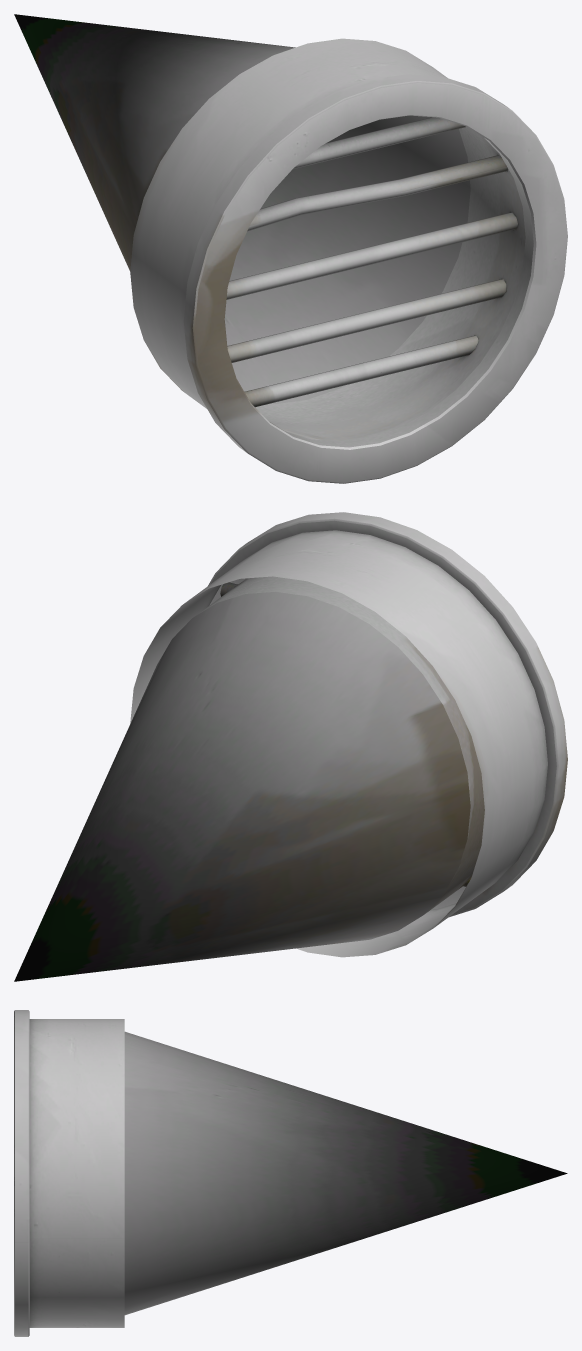
File: props_farm_sewer_grate_end01.glb
The picture shows the model from 3 angles, top to bottom: view 1: azimuth 30°, elevation 25°; view 2: azimuth 150°, elevation 25°; view 3: azimuth 270°, elevation 25°; orthographic projection. The views are drawn at different scales.
Parts seen in each view (by area): view 1: models/props_farm/sewer_grate_end01; view 2: models/props_farm/sewer_grate_end01; view 3: models/props_farm/sewer_grate_end01.
Boxes of the visible parts, box(x1,y1,x2,y2) form: models/props_farm/sewer_grate_end01: box(14, 14, 567, 483); models/props_farm/sewer_grate_end01: box(14, 512, 567, 981); models/props_farm/sewer_grate_end01: box(14, 1010, 567, 1336).
Size of the model in its own units: 189 by 189 by 320.
Materials: 1 (1 with a texture image).
